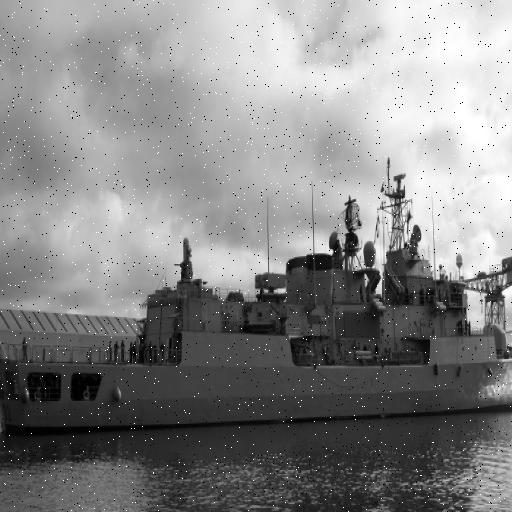Fragata: (1, 130, 512, 440)
